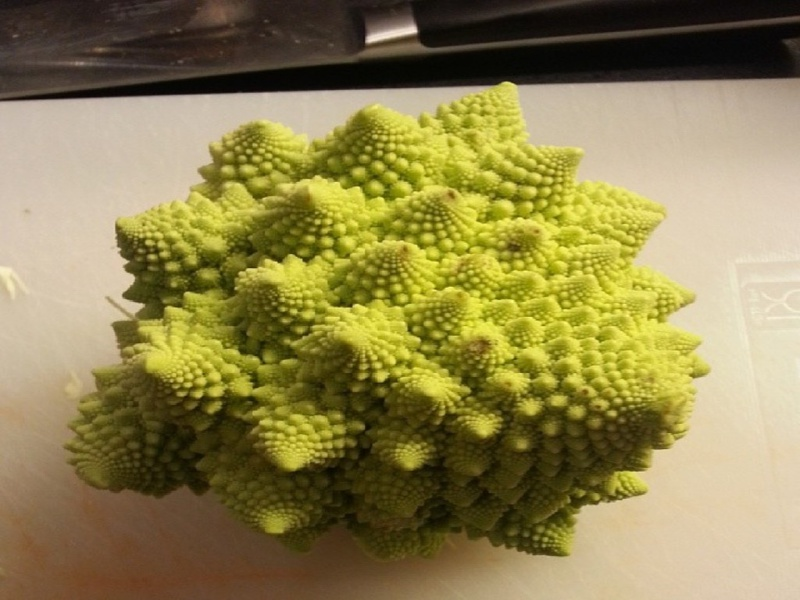wine: (3, 10, 799, 594)
